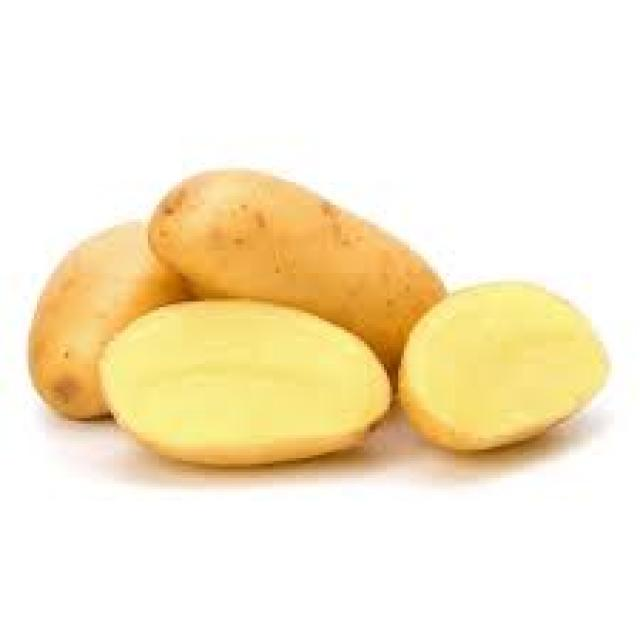Potato: (128, 162, 468, 375), (97, 290, 413, 478)
